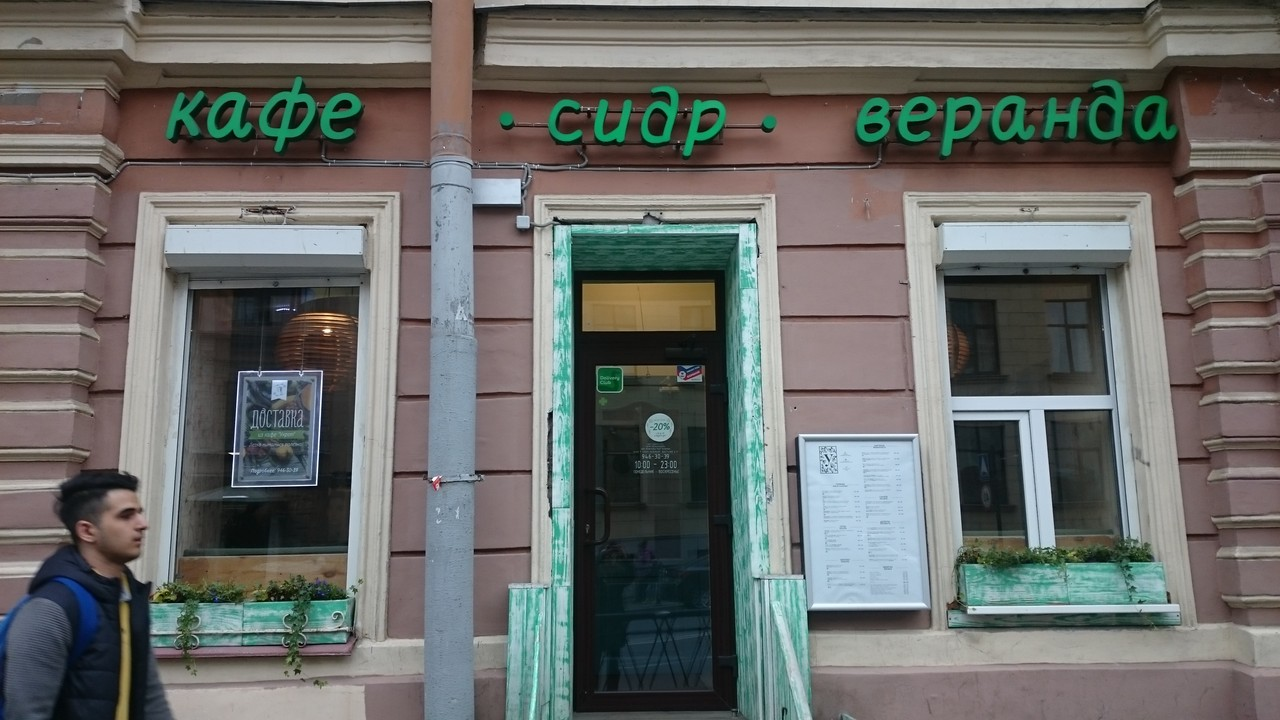door: (573, 345, 732, 707)
signboard: (854, 78, 1181, 158), (494, 84, 778, 155), (164, 75, 364, 157)
window: (163, 276, 369, 598), (937, 271, 1141, 554)
